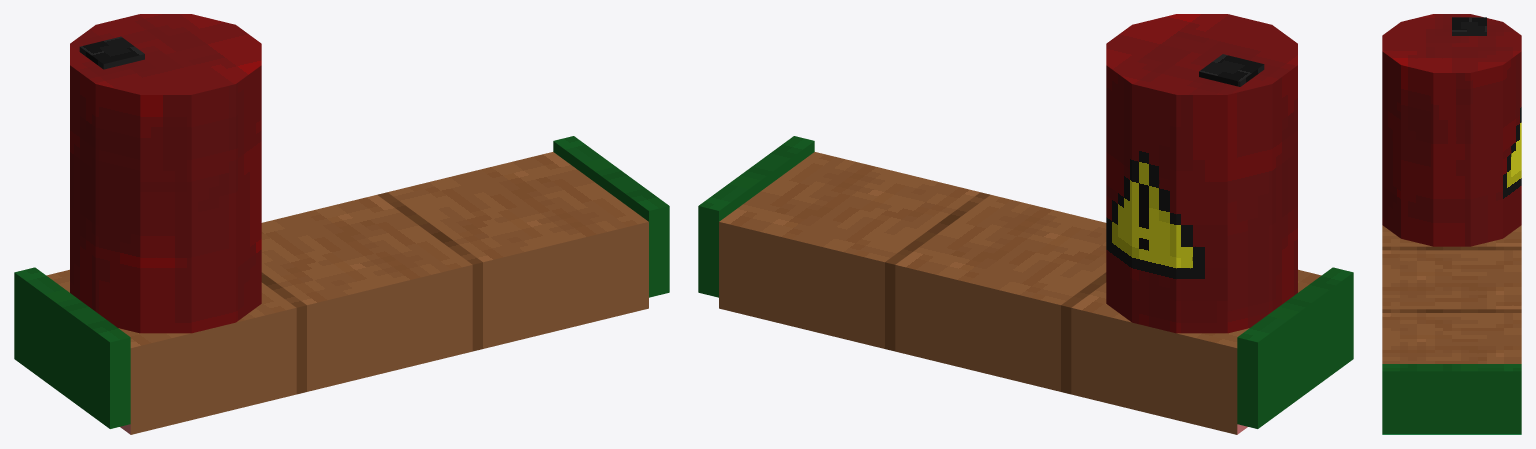
The model's file is obstacle0.fbx.
3 views of the same model, side by side, from view 1: azimuth 30°, elevation 25°; view 2: azimuth 150°, elevation 25°; view 3: azimuth 270°, elevation 25° (orthographic). The views are drawn at different scales.
Parts seen in each view (by area): view 1: group, cylinder, Tonneau; view 2: group, cylinder, Tonneau; view 3: cylinder, group, Tonneau.
Part boxes in pixels (x1,y1,x2,y2): group: (14,136,669,434); cylinder: (70,14,261,333); Tonneau: (79,36,144,69); group: (698,136,1353,434); cylinder: (1106,14,1297,333); Tonneau: (1199,54,1264,86); cylinder: (1382,14,1521,246); group: (1382,225,1521,434); Tonneau: (1452,17,1486,35).
Bounding box in the file's own units: 338 × 191 × 100.
Materials: 2 (2 with a texture image).
